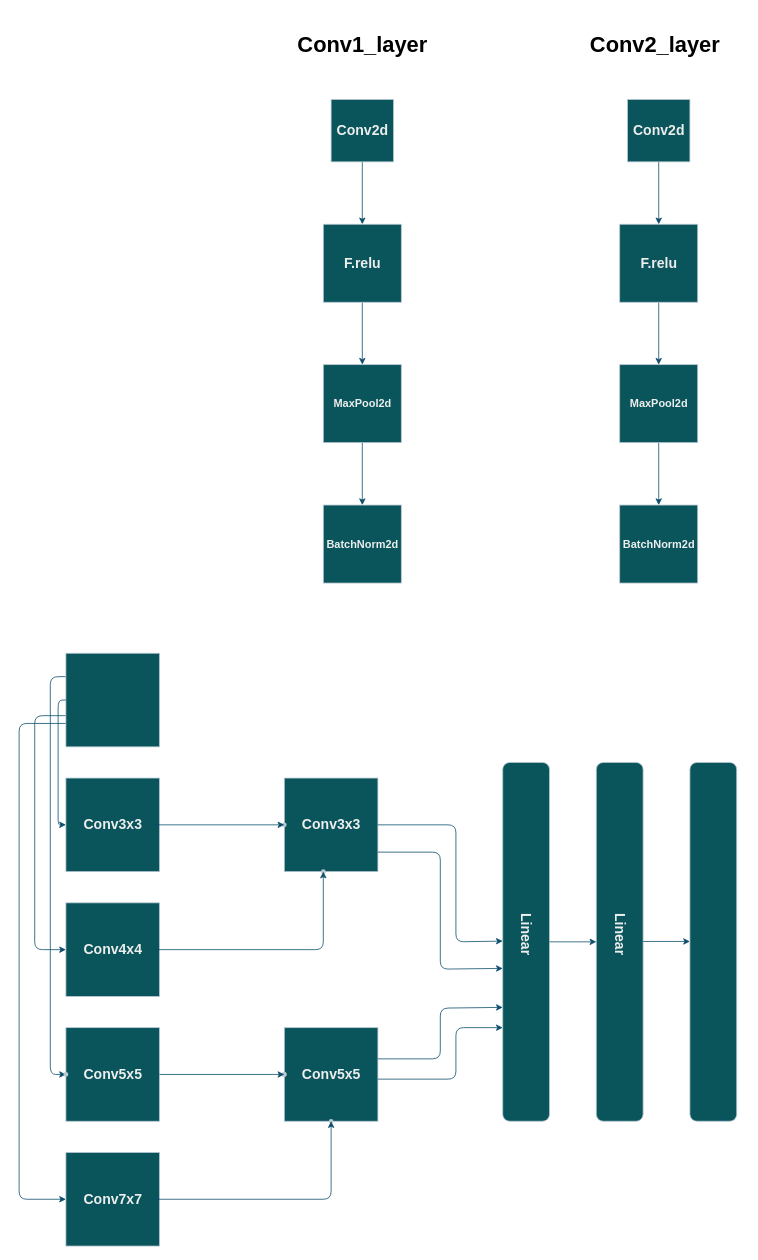
This 758x1260 diagram has some shape labels left out. The shapes that lost their labels are listed below. From the top down, each one's box as (x1, y1, x2, y2) in pixels, then its label:
(65, 652, 160, 747): Input
(689, 762, 737, 1121): Output
